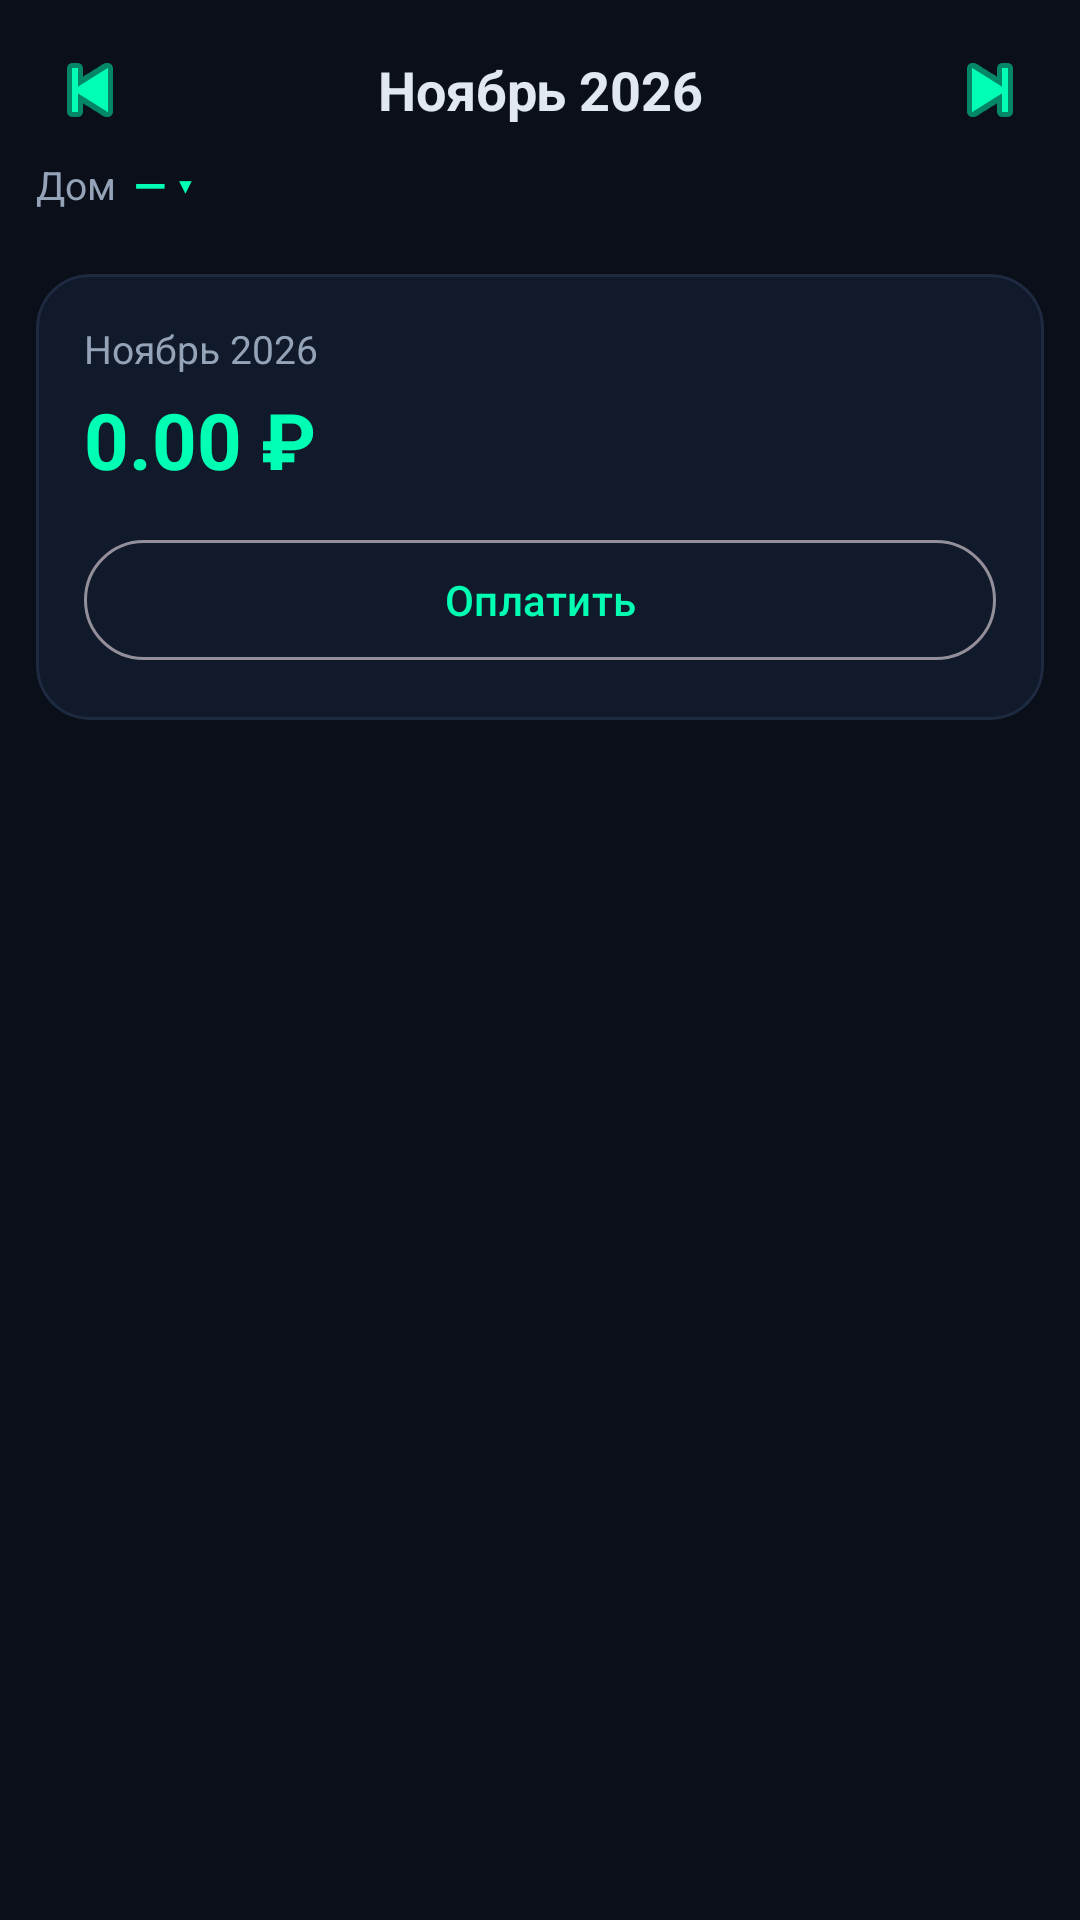

Icons on this 1080px×1920px Android screen, each with the point to tap as (x=x, y=y):
Предыдущий месяц: (x=90, y=90)
Следующий месяц: (x=990, y=90)
